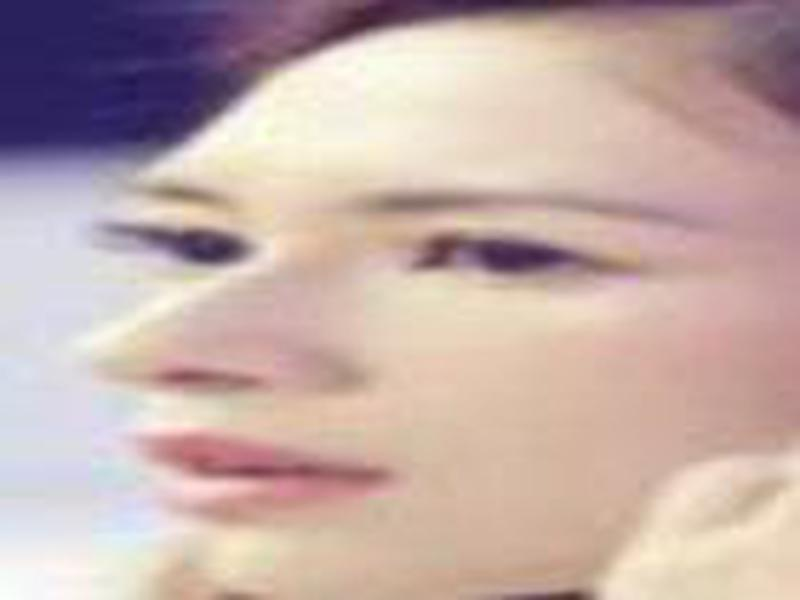without_mask: (75, 78, 773, 600)
